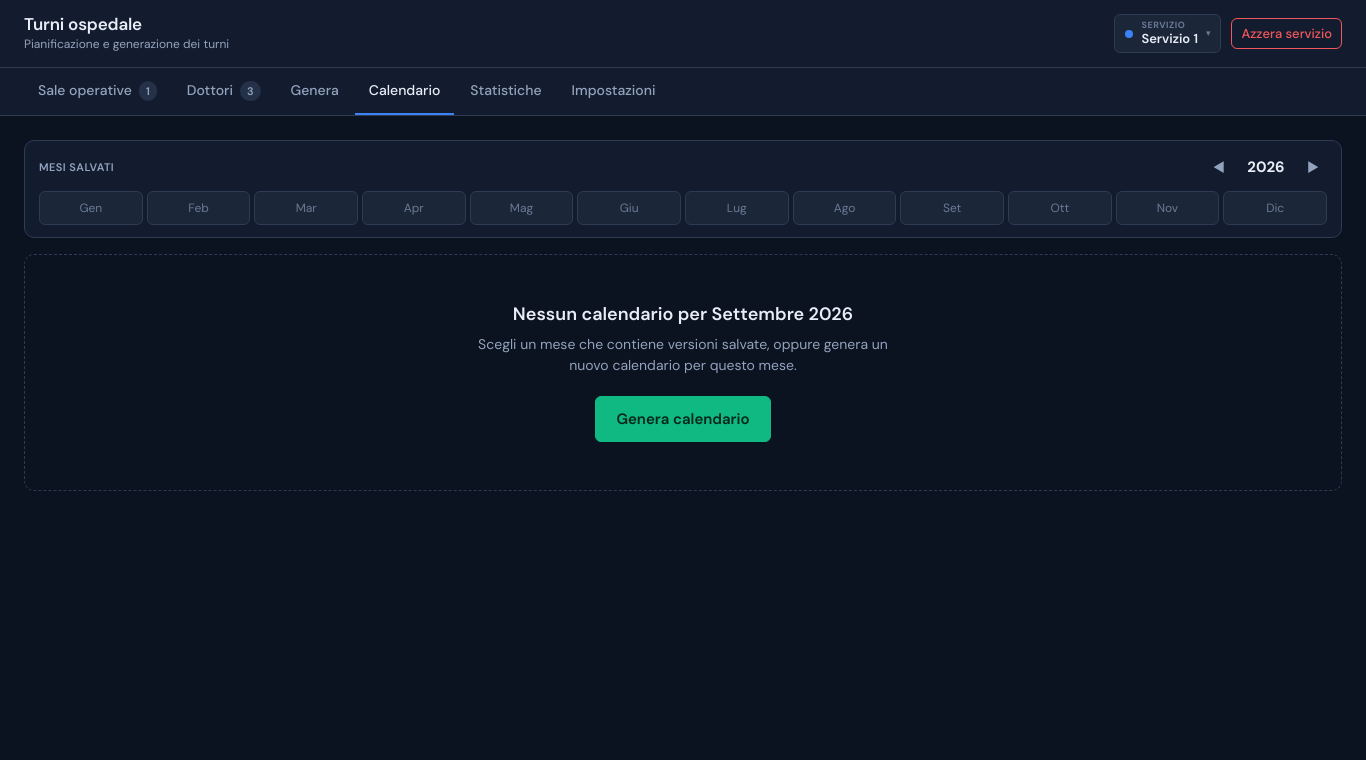
it: generazione e calendario › apre la finestra di aggiunta multipla dal calendario
The image size is (1366, 760).
Click the button "Genera" at (315, 92), box left=276, top=68, right=353, bottom=115
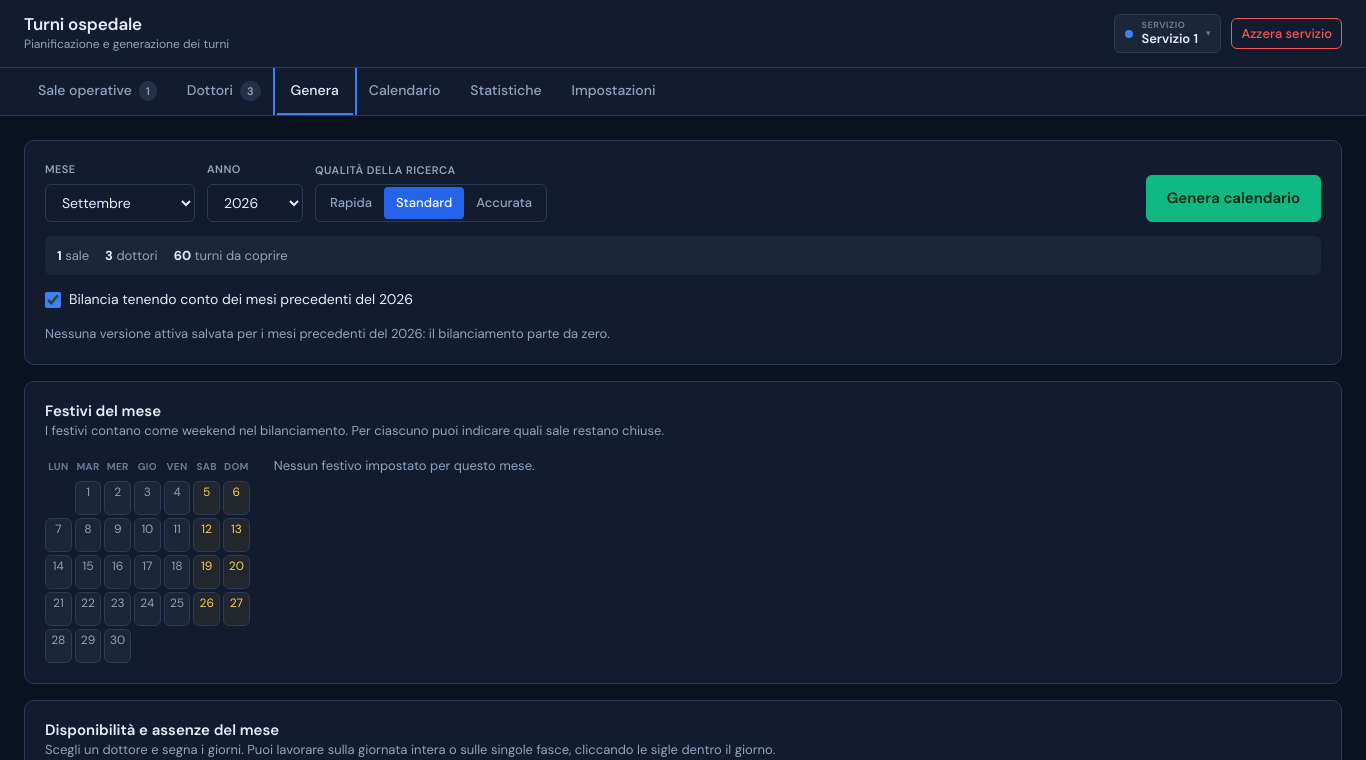
Click the button "Genera calendario" at (1233, 199), box left=1146, top=175, right=1321, bottom=222
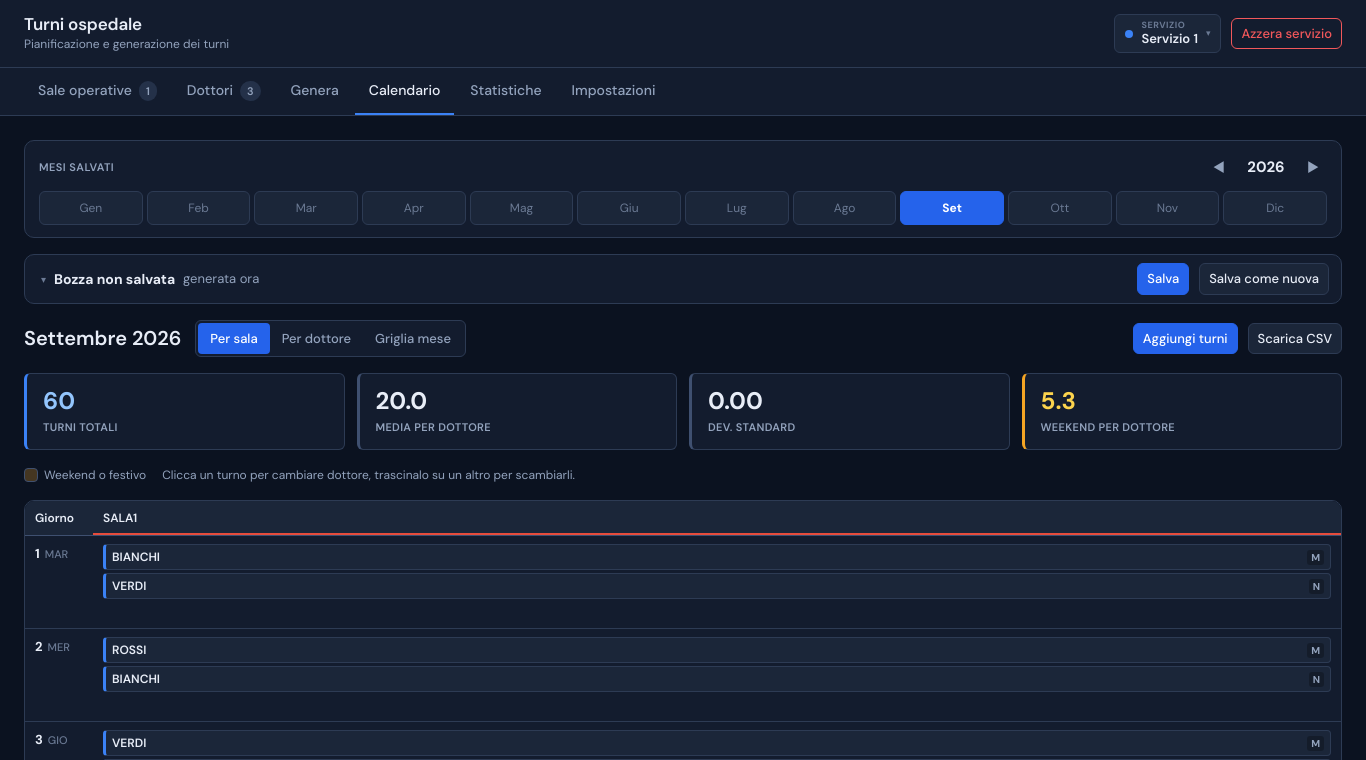
Expected: the text "Bozza non salvata" is shown, left=54, top=268, right=175, bottom=290
Click the button "Aggiungi turni" at (1185, 339), box left=1133, top=323, right=1238, bottom=354
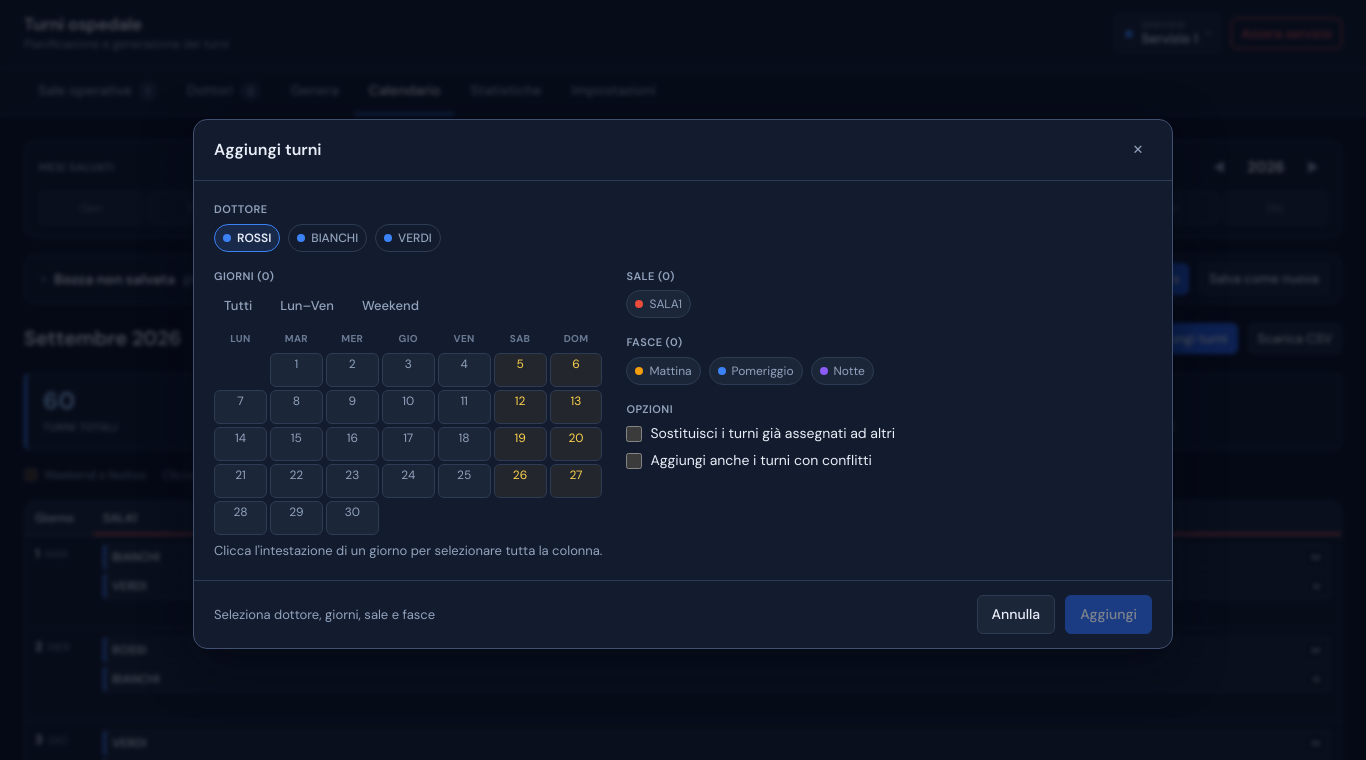
Expected: the text "Dottore" is shown, left=214, top=202, right=268, bottom=216
Expected: the text "Fasce (0)" is shown, left=626, top=335, right=682, bottom=349
Expected: the text "Seleziona dottore, giorni, sale e fasce" is shown, left=214, top=606, right=435, bottom=623
